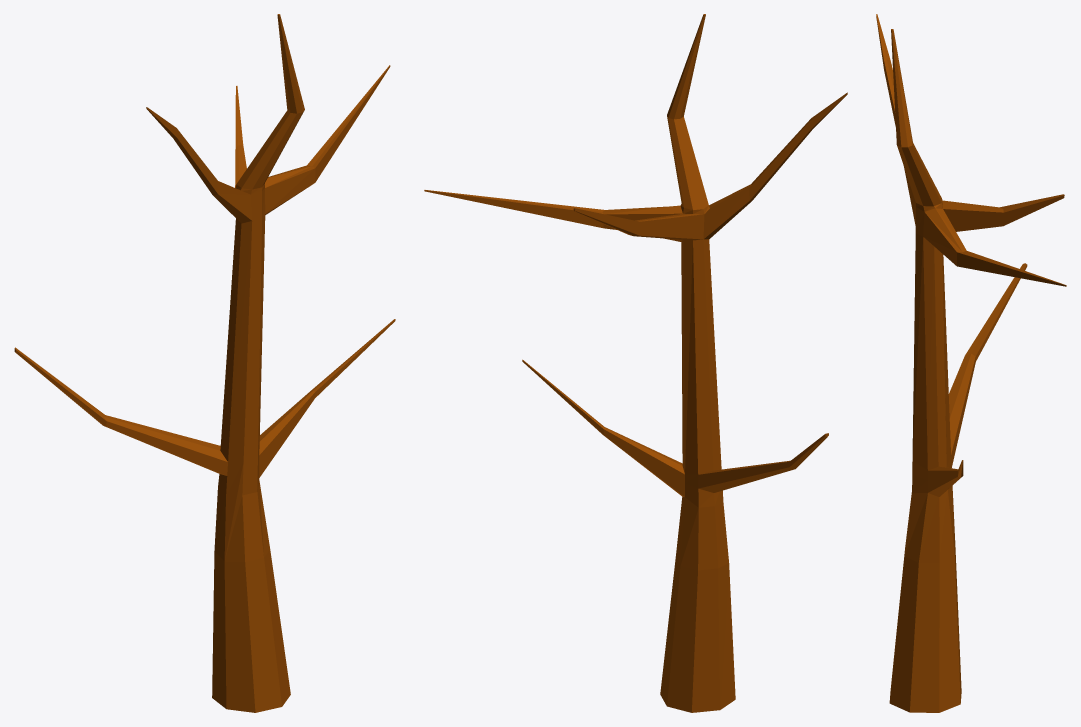
The model's file is Vegetation_Modular_New_Tree_Trunk_01.FBX.
The picture shows the model from 3 angles, left to right: view 1: azimuth 30°, elevation 25°; view 2: azimuth 150°, elevation 25°; view 3: azimuth 270°, elevation 25°; orthographic projection. The views are drawn at different scales.
Parts seen in each view (by area): view 1: Vegetation_Modular_New_Tree_Trunk_01; view 2: Vegetation_Modular_New_Tree_Trunk_01; view 3: Vegetation_Modular_New_Tree_Trunk_01.
Part boxes in pixels (x1,y1,x2,y2): Vegetation_Modular_New_Tree_Trunk_01: (14, 14, 395, 712); Vegetation_Modular_New_Tree_Trunk_01: (424, 14, 847, 712); Vegetation_Modular_New_Tree_Trunk_01: (876, 14, 1066, 712).
Size of the model in its own units: 3967 by 6608 by 1696.
